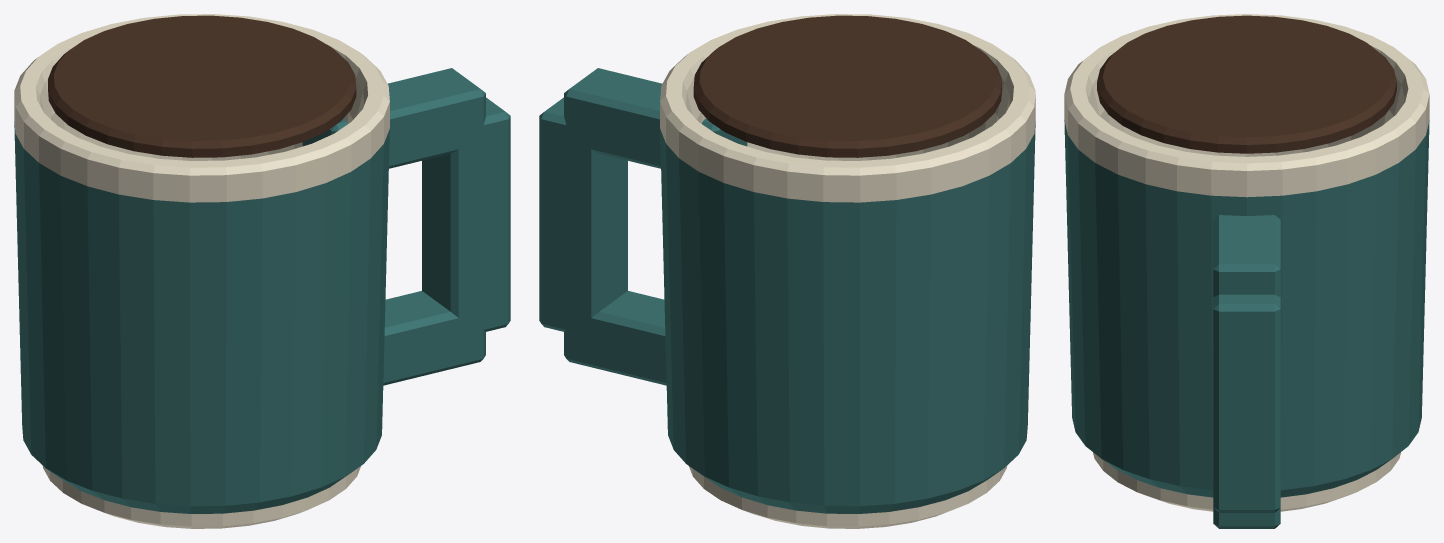
The model's file is mug.glb.
3 views of the same model, side by side, from view 1: azimuth 30°, elevation 25°; view 2: azimuth 150°, elevation 25°; view 3: azimuth 270°, elevation 25° (orthographic). The views are drawn at different scales.
Visible parts, largest first — view 1: Body, Coffee, HandleGrip, HandleUpper, HandleLower; view 2: Body, Coffee, HandleGrip, HandleUpper, HandleLower; view 3: Body, Coffee, HandleGrip, HandleUpper, HandleLower.
Boxes of the visible parts, x1,y1,x2,y2 form: Body: (14, 14, 389, 528); Coffee: (48, 15, 356, 157); HandleGrip: (422, 97, 510, 335); HandleUpper: (302, 68, 485, 168); HandleLower: (383, 291, 485, 385); Body: (660, 14, 1035, 528); Coffee: (693, 15, 1001, 157); HandleGrip: (539, 97, 627, 335); HandleUpper: (564, 68, 747, 168); HandleLower: (564, 291, 666, 385); Body: (1064, 14, 1429, 511); Coffee: (1097, 15, 1396, 153); HandleGrip: (1213, 294, 1280, 512); HandleUpper: (1213, 215, 1280, 296); HandleLower: (1213, 508, 1280, 528).
Bounding box in the file's own units: 0.2665 × 0.217 × 0.19.
